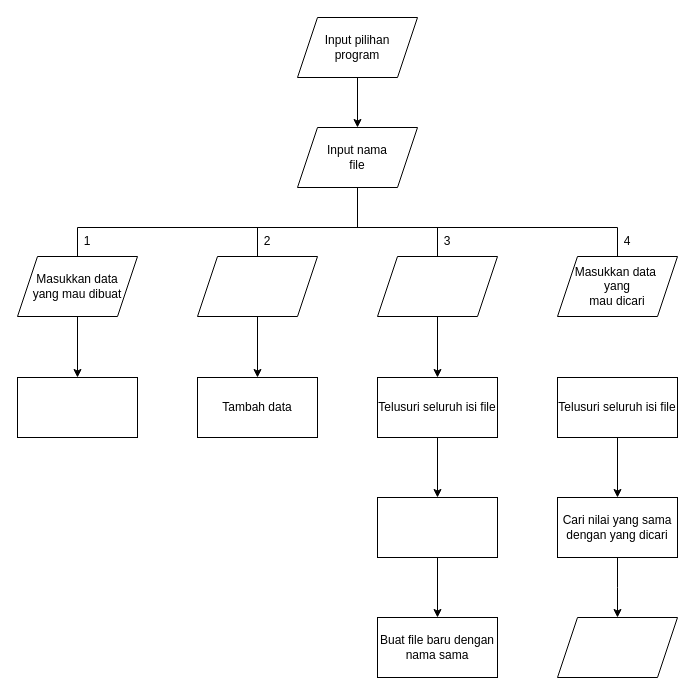
This 695x695 diagram has some shape labels left out. The centre of each missing label's shape, as x and y in pixels:
"Buat data" goes at pixel 77 407.
"Copy seluruh file kecuali yang dihapus" goes at pixel 437 527.
"Masukkan data yang mau dihapus" goes at pixel 437 286.
"Masukkan data yang mau ditambah" goes at pixel 257 286.
"Print hasil yang sama" goes at pixel 617 647.
